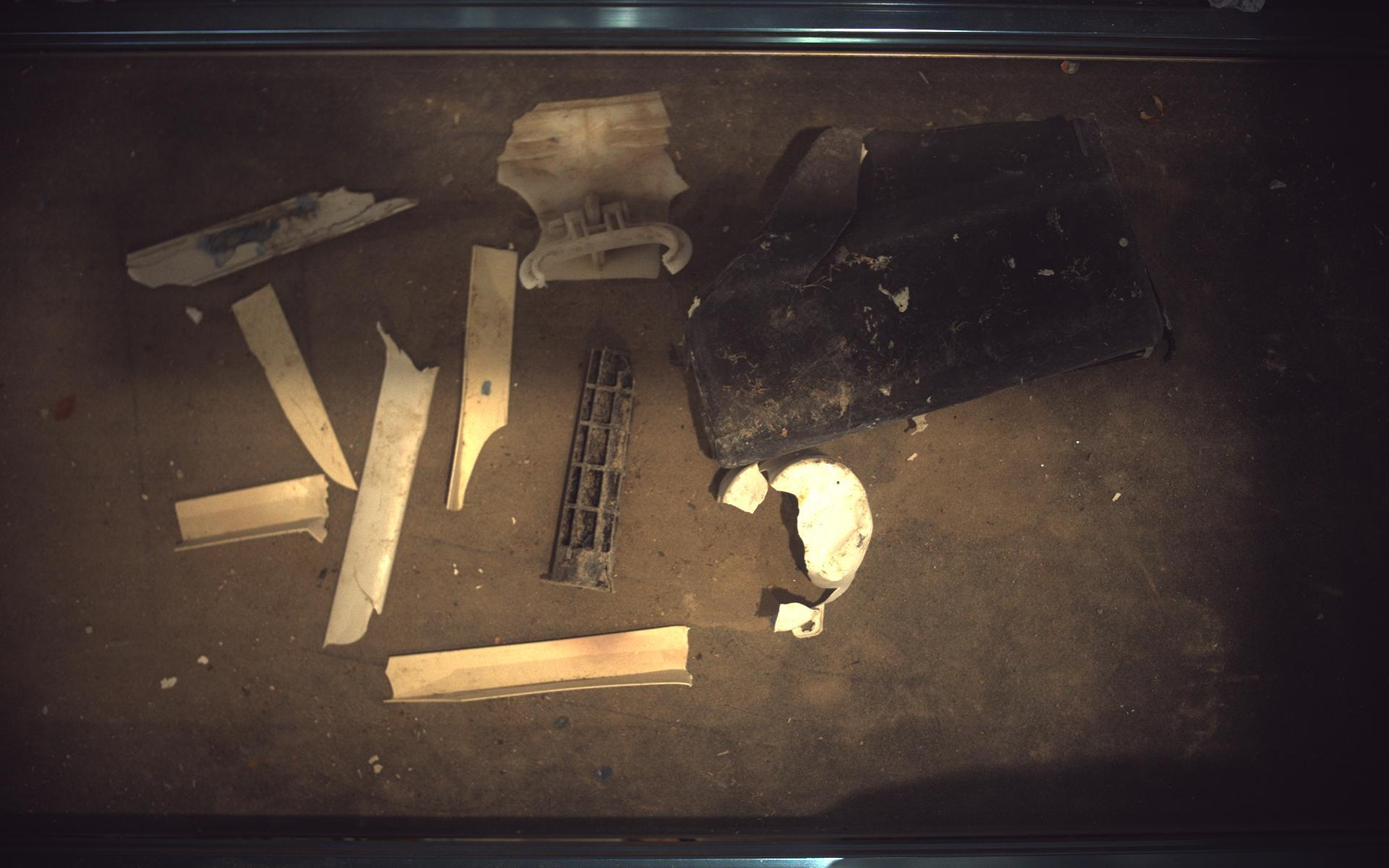plastic: (687, 116, 1166, 468), (498, 91, 693, 289), (323, 322, 438, 646), (719, 449, 875, 639), (125, 187, 417, 287), (231, 284, 357, 490), (386, 627, 693, 705), (544, 347, 634, 592), (446, 245, 517, 511), (174, 475, 328, 552)
